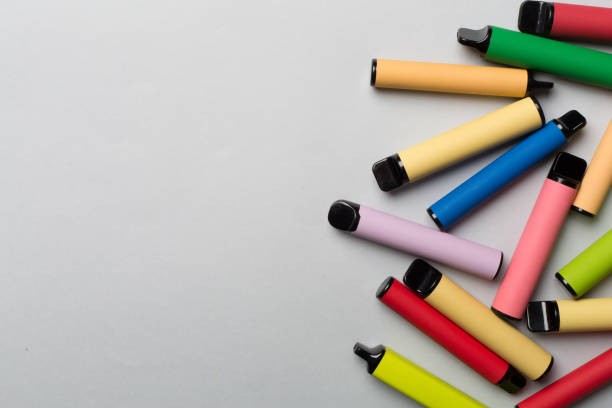cigarette: (425, 108, 588, 232), (373, 275, 528, 394), (403, 259, 554, 381), (488, 149, 587, 323), (371, 97, 546, 192), (326, 198, 504, 282), (455, 23, 612, 92), (351, 341, 494, 408), (368, 56, 556, 98), (513, 347, 612, 408), (515, 0, 612, 48), (570, 117, 612, 220), (553, 227, 612, 300), (524, 297, 612, 335)
